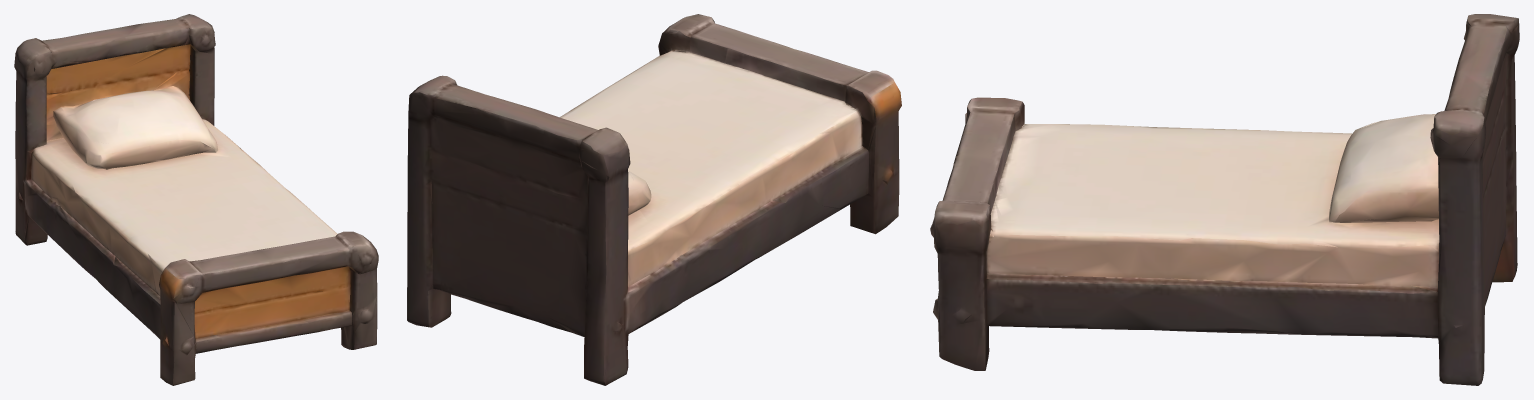
File: bed12.glb
3 renders of one model, left to right at view 1: azimuth 30°, elevation 25°; view 2: azimuth 150°, elevation 25°; view 3: azimuth 270°, elevation 25°, orthographic. The views are drawn at different scales.
Size of the model in its own units: 0.1819 by 0.156 by 0.3152.
1 material, 1 textured.
